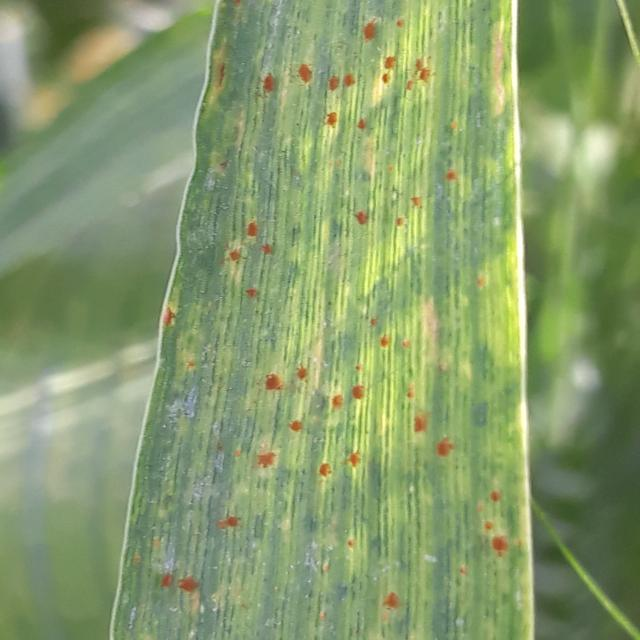orang_rust: (98, 5, 543, 640)
